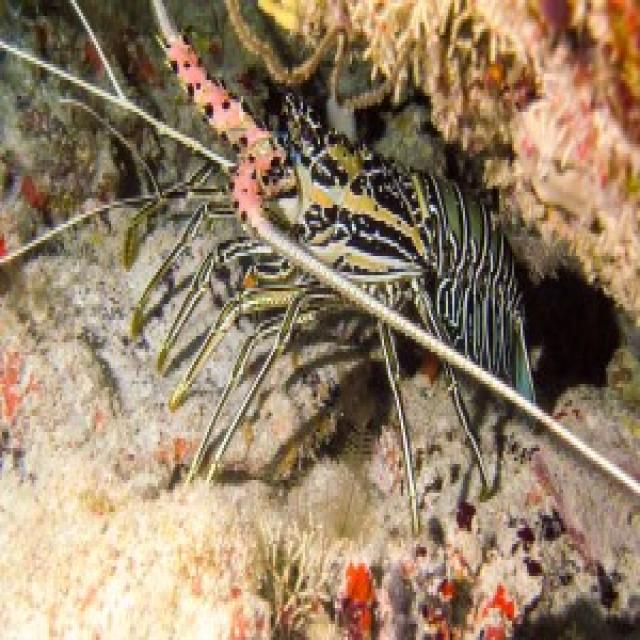lobsters: (67, 26, 546, 464)
